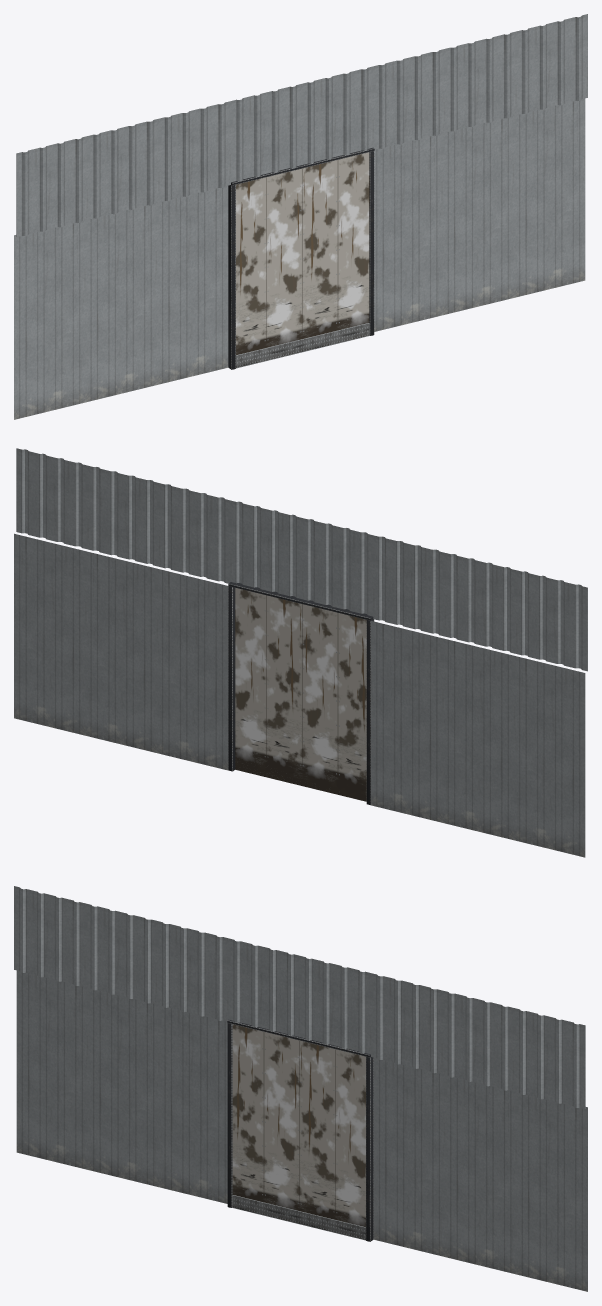
The model's file is Corridor_DeadEnd.fbx.
3 renders of one model, top to bottom at view 1: azimuth 30°, elevation 25°; view 2: azimuth 150°, elevation 25°; view 3: azimuth 330°, elevation 25°, orthographic.
Visible parts, largest first — view 1: Panel, Facade, Trim; view 2: Panel, Facade, Trim; view 3: Panel, Facade, Trim.
Part boxes in pixels (left/top/right/bottom): Panel: left=14, top=14, right=587, bottom=419; Facade: left=236, top=152, right=369, bottom=355; Trim: left=228, top=147, right=374, bottom=369; Panel: left=14, top=448, right=587, bottom=857; Facade: left=235, top=588, right=366, bottom=801; Trim: left=228, top=582, right=374, bottom=805; Panel: left=14, top=886, right=587, bottom=1291; Facade: left=232, top=1024, right=365, bottom=1227; Trim: left=227, top=1019, right=373, bottom=1241.
Bounding box in the file's own units: 32 × 14.35 × 0.39.
3 materials, 3 textured.
